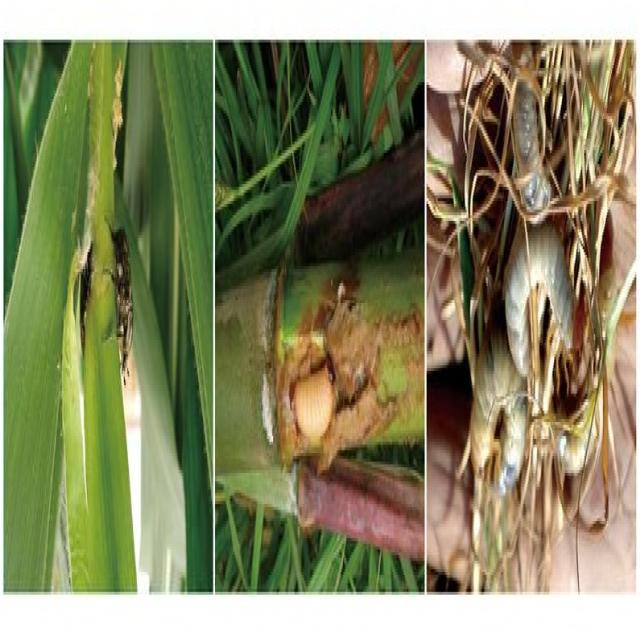grub: (493, 232, 587, 410), (455, 339, 532, 518), (508, 50, 558, 248), (107, 219, 136, 395), (283, 348, 334, 447)
